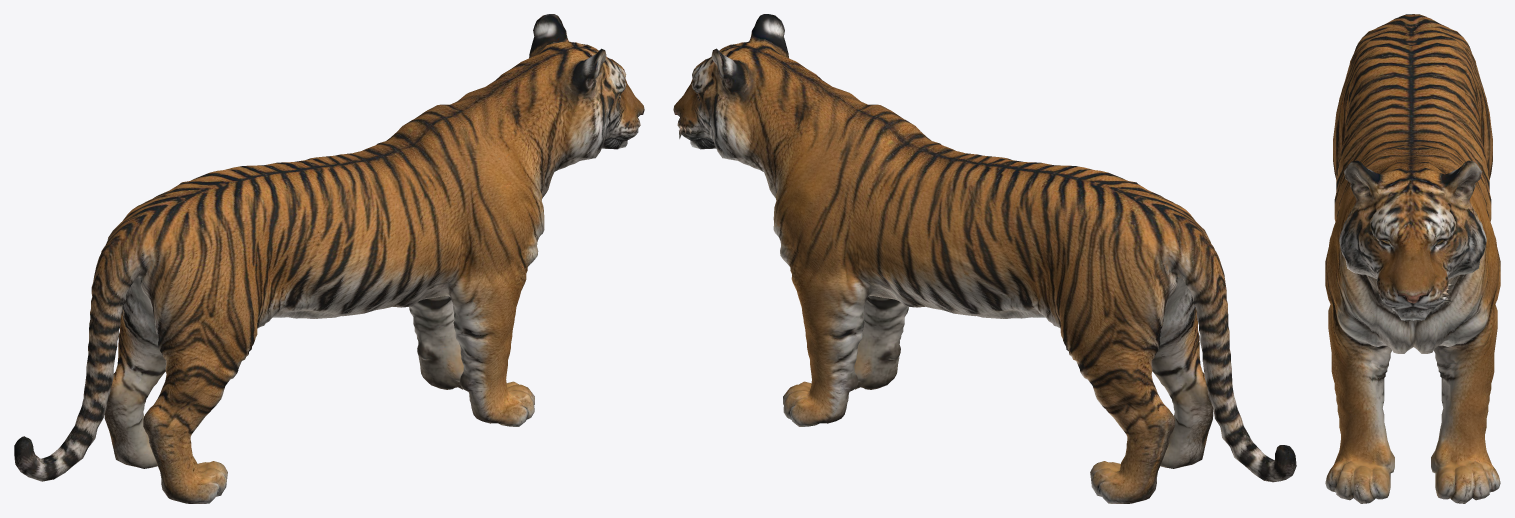
3 views of the same model, side by side, from view 1: azimuth 30°, elevation 25°; view 2: azimuth 150°, elevation 25°; view 3: azimuth 270°, elevation 25° (orthographic). The views are drawn at different scales.
Parts seen in each view (by area): view 1: _gltfNode_0; view 2: _gltfNode_0; view 3: _gltfNode_0.
Part boxes in pixels (box(x1,y1,x2,y2)): _gltfNode_0: box(14, 14, 644, 503); _gltfNode_0: box(673, 14, 1296, 503); _gltfNode_0: box(1325, 14, 1500, 503).
Size of the model in its own units: 0.9788 by 0.5248 by 0.2164.
1 material, 1 textured.
